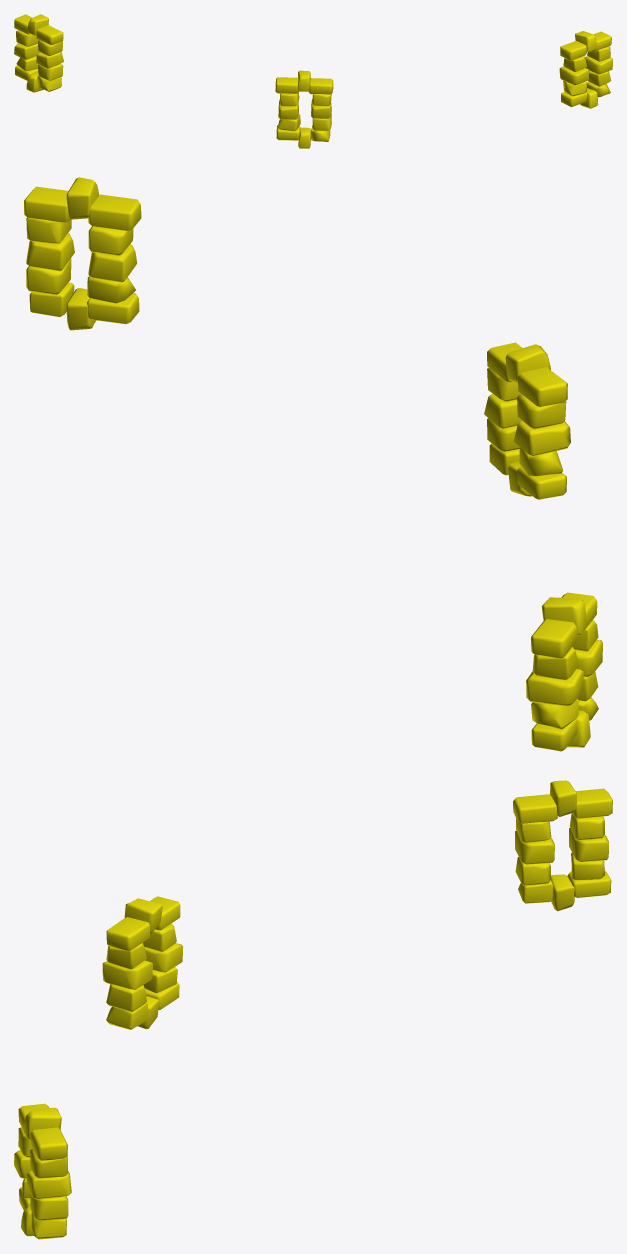
Rendered from Tower_Wall_08_Window.fbx.
3 renders of one model, top to bottom at view 1: azimuth 30°, elevation 25°; view 2: azimuth 150°, elevation 25°; view 3: azimuth 270°, elevation 25°, orthographic. The views are drawn at different scales.
Parts seen in each view (by area): view 1: Tower_Wall_08_Window; view 2: Tower_Wall_08_Window; view 3: Tower_Wall_08_Window.
Boxes of the visible parts, x1,y1,x2,y2 form: Tower_Wall_08_Window: (14, 14, 612, 148); Tower_Wall_08_Window: (24, 177, 602, 751); Tower_Wall_08_Window: (14, 780, 612, 1239).
Size of the model in its own units: 993 by 158 by 699.
